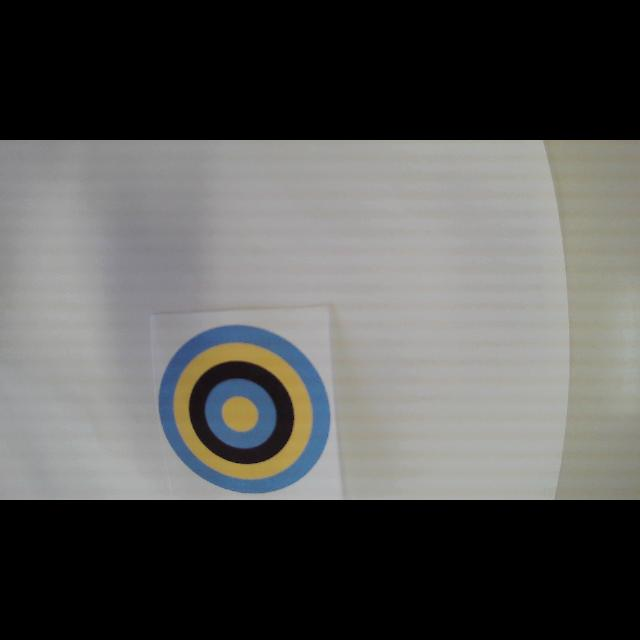COGNITIVE: (158, 323, 332, 494)
